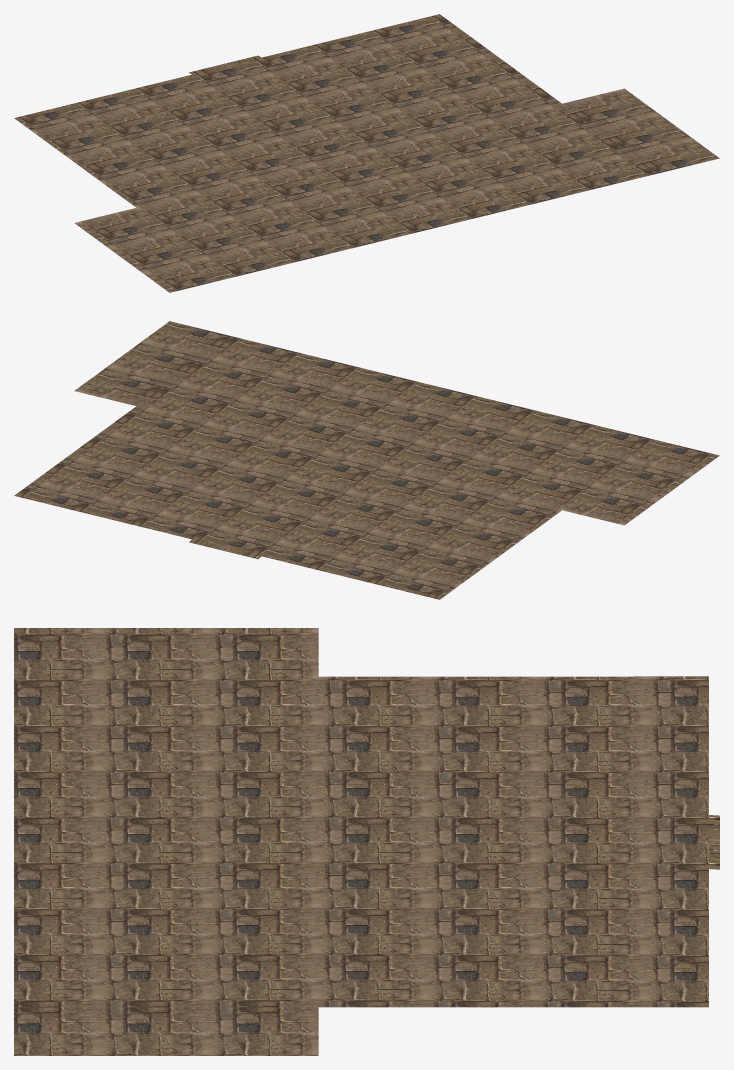
File: A03_battle_floor_b.FBX
The picture shows the model from 3 angles, top to bottom: view 1: azimuth 30°, elevation 25°; view 2: azimuth 150°, elevation 25°; view 3: azimuth 270°, elevation 25°; orthographic projection. The views are drawn at different scales.
Parts seen in each view (by area): view 1: A03_battle_floor_b; view 2: A03_battle_floor_b; view 3: A03_battle_floor_b.
Boxes of the visible parts, box(x1,y1,x2,y2) form: A03_battle_floor_b: box(14, 14, 719, 292); A03_battle_floor_b: box(14, 321, 719, 599); A03_battle_floor_b: box(14, 628, 719, 1055).
Size of the model in its own units: 43.71 by 0.0406 by 30.47.
